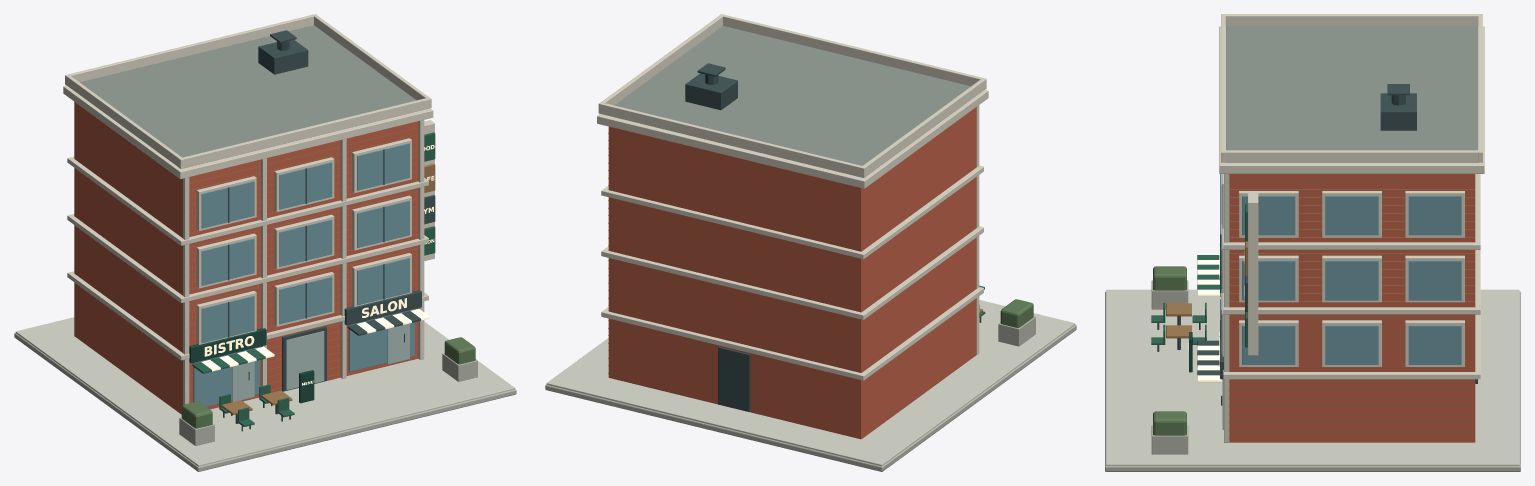
File: medium-4x4-brick-services-06.glb
The picture shows the model from 3 angles, left to right: view 1: azimuth 30°, elevation 25°; view 2: azimuth 150°, elevation 25°; view 3: azimuth 270°, elevation 25°; orthographic projection. The views are drawn at different scales.
Visible parts, largest first — view 1: BrickBody, RoofDeck, Paving, RoofCornice, Lot, Parapet, FloorBand.002, FloorBand.001, Parapet.001, ShopWindow, ShopWindow.001, ShopWindow.003 (+35 smaller); view 2: BrickBody, RoofDeck, Paving, RoofCornice, Lot, Parapet.001, FloorBand, FloorBand.002, FloorBand.001, Parapet, RearServiceDoor, Parapet.002 (+5 smaller); view 3: BrickBody, Paving, RoofDeck, RoofCornice, Parapet.003, Lot, Parapet.002, FloorBand, FloorBand.002, FloorBand.001, SideWindow.004, SideWindow.005 (+29 smaller).
Part boxes in pixels (left/top/right/bottom): BrickBody: left=74, top=102, right=418, bottom=414; RoofDeck: left=80, top=25, right=416, bottom=157; Paving: left=15, top=317, right=515, bottom=466; RoofCornice: left=63, top=85, right=433, bottom=179; Lot: left=14, top=333, right=516, bottom=471; Parapet: left=178, top=97, right=431, bottom=168; FloorBand.002: left=67, top=156, right=428, bottom=245; FloorBand.001: left=67, top=214, right=428, bottom=303; Parapet.001: left=65, top=14, right=316, bottom=85; ShopWindow: left=201, top=295, right=254, bottom=343; ShopWindow.001: left=279, top=276, right=332, bottom=324; ShopWindow.003: left=201, top=238, right=254, bottom=285; BrickBody: left=608, top=107, right=976, bottom=439; RoofDeck: left=614, top=26, right=970, bottom=165; Paving: left=546, top=300, right=1075, bottom=466; RoofCornice: left=597, top=90, right=988, bottom=188; Lot: left=545, top=324, right=1076, bottom=471; Parapet.001: left=598, top=102, right=866, bottom=177; FloorBand: left=601, top=287, right=983, bottom=380; FloorBand.002: left=601, top=165, right=983, bottom=259; FloorBand.001: left=601, top=226, right=983, bottom=319; Parapet: left=720, top=14, right=986, bottom=89; RearServiceDoor: left=718, top=346, right=750, bottom=411; Parapet.002: left=863, top=79, right=984, bottom=175; BrickBody: left=1229, top=174, right=1475, bottom=442; Paving: left=1106, top=289, right=1519, bottom=466; RoofDeck: left=1226, top=26, right=1477, bottom=150; RoofCornice: left=1219, top=26, right=1484, bottom=173; Parapet.003: left=1224, top=150, right=1480, bottom=162; Lot: left=1105, top=291, right=1520, bottom=471; Parapet.002: left=1223, top=14, right=1480, bottom=25; FloorBand: left=1223, top=314, right=1480, bottom=379; FloorBand.002: left=1223, top=174, right=1480, bottom=249; FloorBand.001: left=1223, top=250, right=1480, bottom=314; SideWindow.004: left=1325, top=260, right=1378, bottom=300; SideWindow.005: left=1408, top=260, right=1461, bottom=300.
Size of the model in its own units: 16 by 13.87 by 16.
